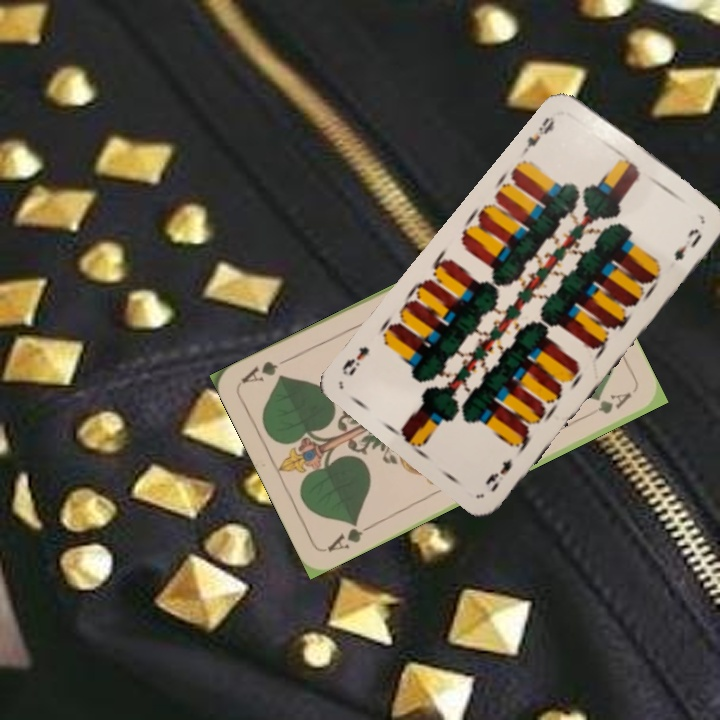E9: (519, 112, 558, 155), (481, 454, 516, 495)
GA: (323, 516, 377, 555)
